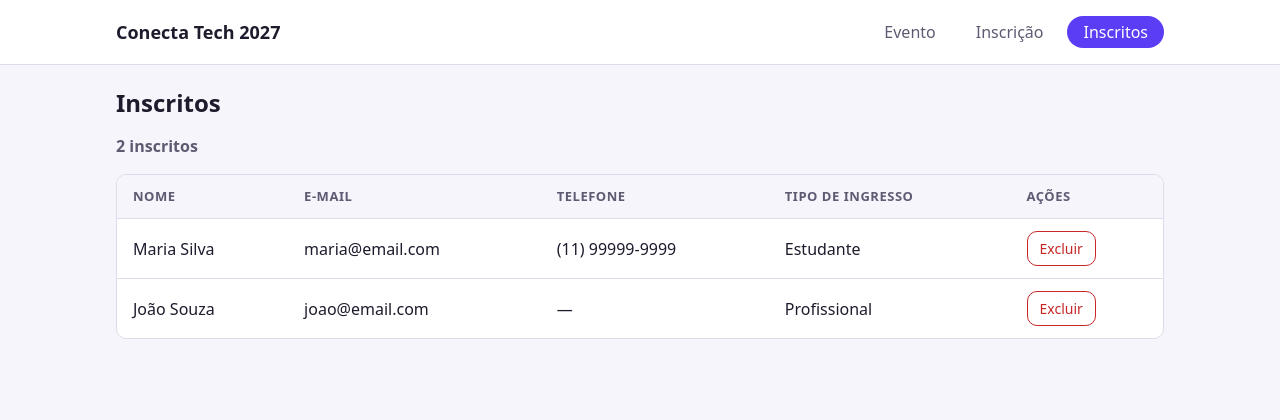
it: tela de inscritos › exclusão › REQ-FE-28: sem conexão com a API, mostra a mensagem de servidor fora do ar e mantém a tabela
Click the button "Excluir" in the row of "Maria Silva": (1061, 249) [1026, 231, 1096, 266]
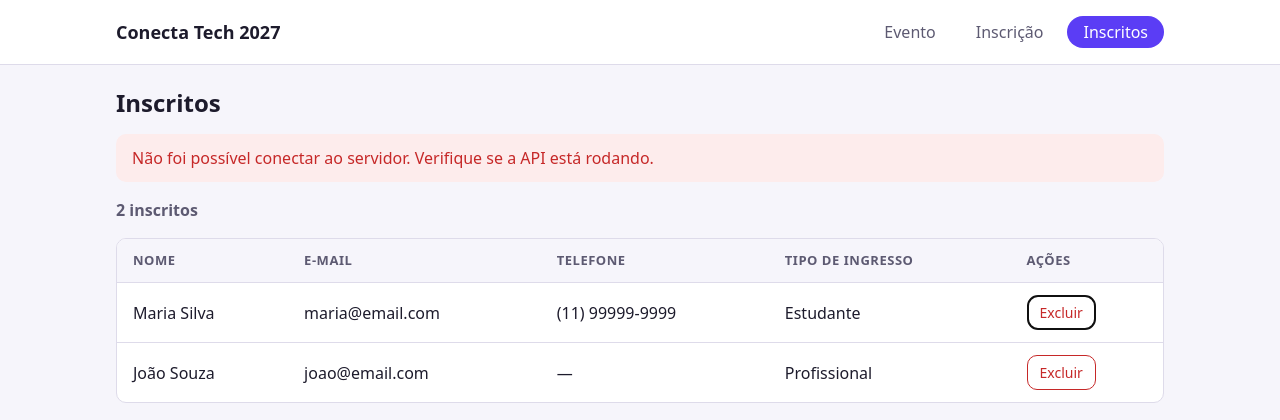
expect the message reads "Não foi possível conectar ao servidor. Verifique se a API está rodando.": met, box [132, 147, 654, 169]
